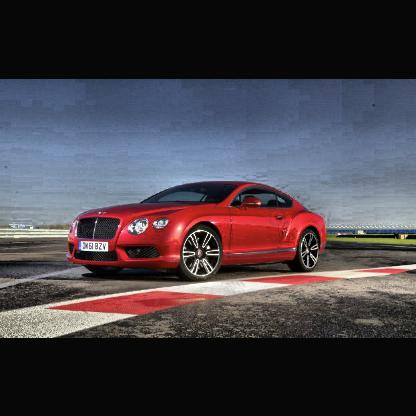Bentley Continental GT Coupe 2007: (65, 179, 329, 285)
